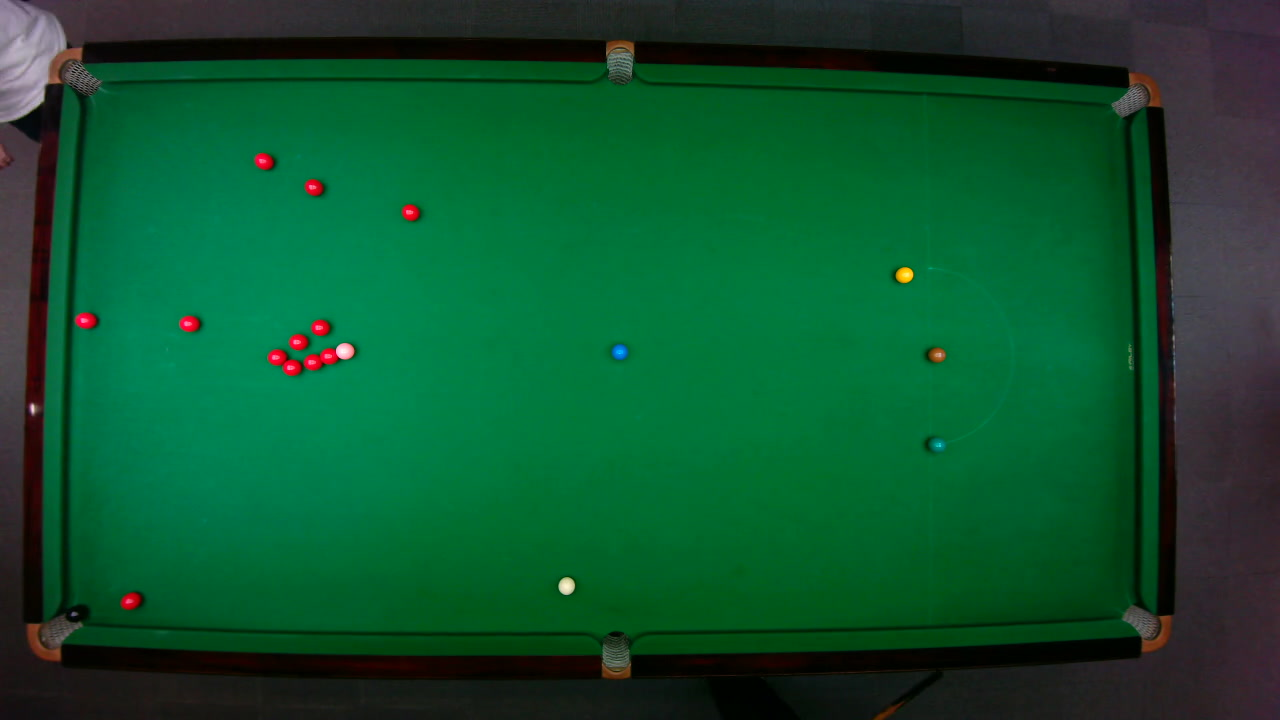bag: (25, 609, 83, 661), (47, 46, 102, 96), (1119, 602, 1172, 652), (1108, 71, 1162, 118), (601, 629, 630, 680), (605, 38, 633, 85)
black: (64, 605, 85, 622)
blue: (610, 342, 628, 360)
brown: (926, 346, 946, 362)
green: (926, 435, 946, 453)
pink: (334, 341, 355, 360)
red: (118, 590, 142, 610), (73, 310, 97, 329), (302, 177, 324, 196), (252, 151, 274, 170), (177, 314, 200, 332), (309, 317, 330, 336), (265, 348, 287, 366), (400, 202, 420, 221), (281, 358, 302, 376), (302, 352, 323, 370), (287, 332, 308, 350), (319, 346, 338, 365)
white: (556, 575, 576, 595)
yellow: (893, 265, 914, 283)
zone: (926, 266, 1013, 445)
